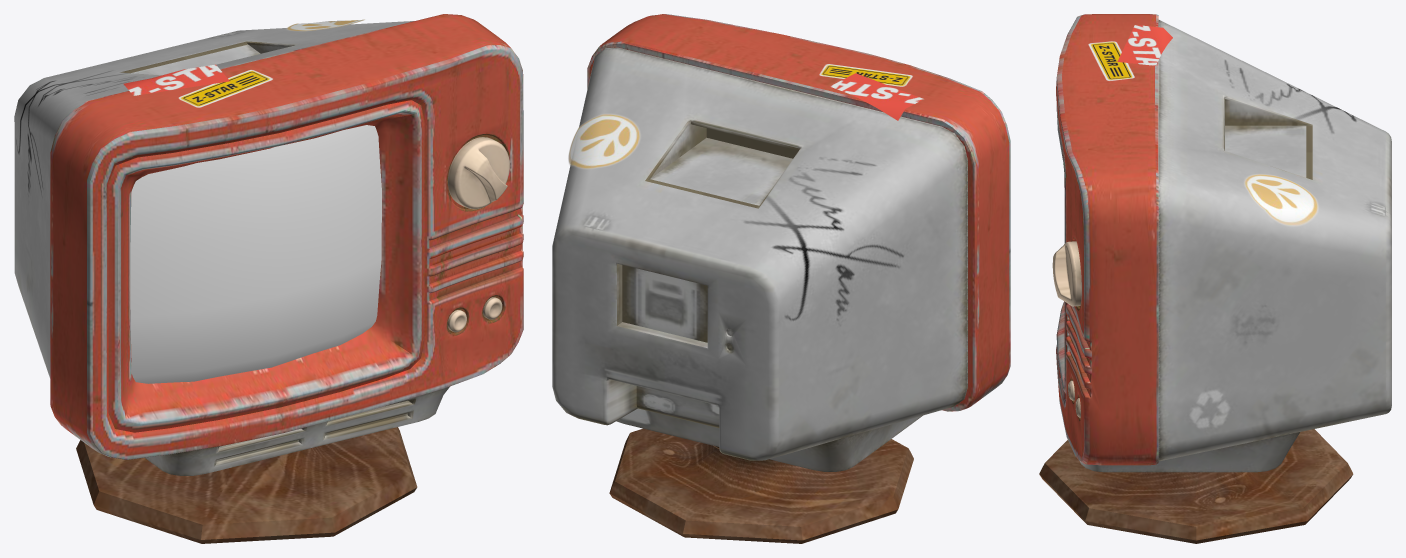
Rendered from tv-processed.glb.
The picture shows the model from 3 angles, left to right: view 1: azimuth 30°, elevation 25°; view 2: azimuth 150°, elevation 25°; view 3: azimuth 270°, elevation 25°; orthographic projection. The views are drawn at different scales.
Visible parts, largest first — view 1: 2_TV_Solo, 1_TV_Screen, 3_TV_Stickers; view 2: 2_TV_Solo, 3_TV_Stickers; view 3: 2_TV_Solo, 3_TV_Stickers.
Part boxes in pixels (x1=…): 2_TV_Solo: x1=14, y1=14, x2=523, y2=543; 1_TV_Screen: x1=130, y1=125, x2=381, y2=383; 3_TV_Stickers: x1=123, y1=19, x2=364, y2=107; 2_TV_Solo: x1=552, y1=14, x2=1010, y2=543; 3_TV_Stickers: x1=568, y1=64, x2=923, y2=168; 2_TV_Solo: x1=1039, y1=14, x2=1391, y2=543; 3_TV_Stickers: x1=1088, y1=25, x2=1318, y2=226.
Size of the model in its own units: 62.67 by 60.56 by 49.32.
1 material, 1 textured.
